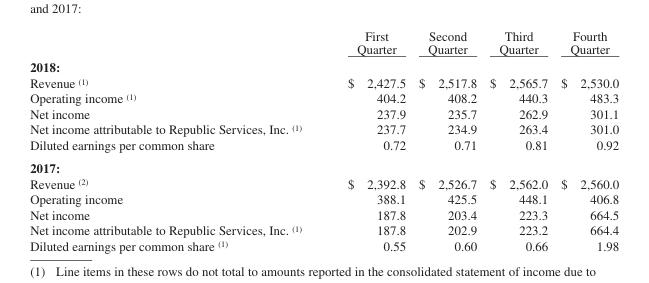table: (29, 28, 618, 252)
table column: (29, 28, 323, 252), (323, 28, 411, 252), (411, 28, 482, 252), (482, 28, 553, 252), (553, 28, 618, 252)
table column header: (29, 28, 618, 57)
table projected row header: (29, 155, 618, 175), (29, 57, 618, 74)
table row: (29, 28, 618, 57), (29, 155, 618, 175), (29, 136, 618, 155), (29, 57, 618, 74), (29, 74, 618, 90), (29, 105, 618, 121), (29, 190, 618, 206), (29, 221, 618, 237), (29, 90, 618, 105), (29, 121, 618, 136), (29, 175, 618, 190), (29, 206, 618, 221), (29, 237, 618, 252)
